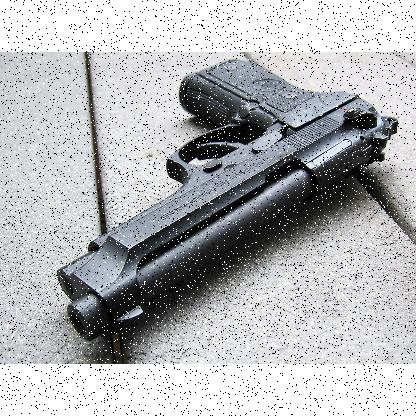gun: (57, 58, 397, 340)
